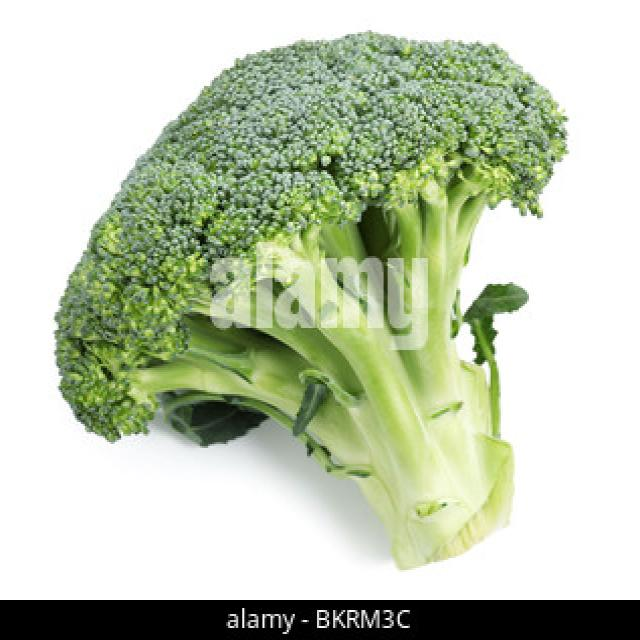broccoli: (55, 34, 567, 567)
